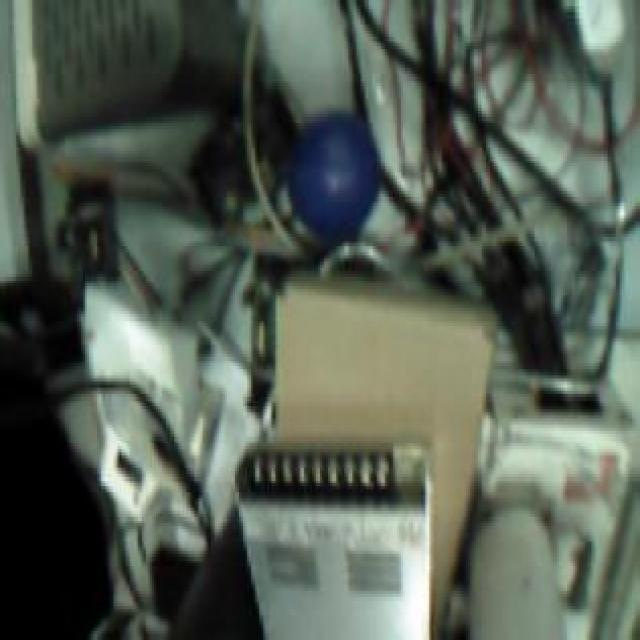BallPurple: (287, 110, 380, 237)
